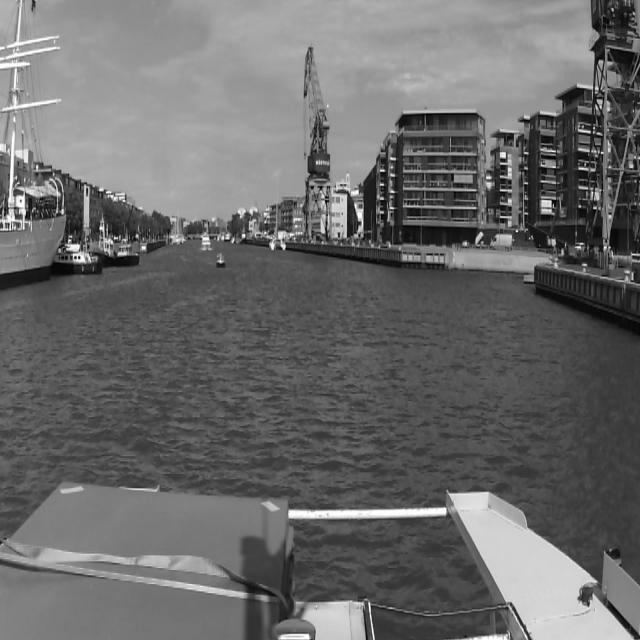ship: (0, 3, 66, 287), (56, 242, 98, 274), (274, 175, 288, 253), (114, 242, 140, 268), (169, 213, 185, 246), (215, 250, 227, 268), (201, 234, 211, 250), (223, 233, 229, 243)
